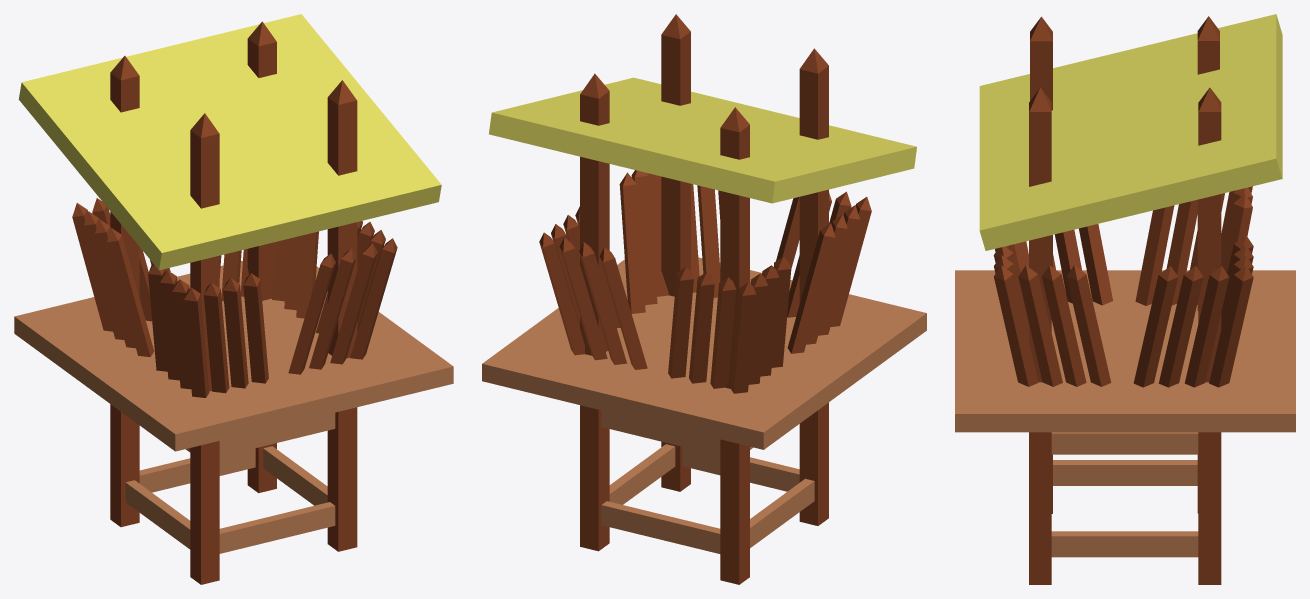
Rendered from tower 2.fbx.
The picture shows the model from 3 angles, left to right: view 1: azimuth 30°, elevation 25°; view 2: azimuth 150°, elevation 25°; view 3: azimuth 270°, elevation 25°; orthographic projection. The views are drawn at different scales.
Visible parts, largest first — view 1: Cube.013, Cube.012, Floor, Cube.005, Cube, Cube.008, Cube.011, Cube.002, Cube.010, Cube.001, Cube.007, Cube.004; view 2: Cube.012, Floor, Cube.013, Cube.011, Cube.008, Cube, Cube.005, Cube.010, Cube.009, Cube.002, Cube.007, Cube.004; view 3: Cube.013, Floor, Cube.012, Cube.011, Cube.005, Cube.004, Cube.007, Cube.003, Cube, Cube.008.
Part boxes in pixels (x1,y1,x2,y2): Cube.013: (18, 14, 441, 270); Cube.012: (72, 198, 397, 397); Floor: (14, 260, 453, 451); Cube.005: (327, 80, 357, 551); Cube: (190, 113, 219, 584); Cube.008: (110, 56, 139, 527); Cube.011: (247, 21, 276, 493); Cube.002: (219, 502, 335, 553); Cube.010: (139, 448, 255, 492); Cube.001: (219, 412, 335, 456); Cube.007: (125, 480, 190, 549); Cube.004: (263, 446, 327, 505); Cube.012: (539, 170, 871, 393); Floor: (482, 257, 926, 449); Cube.013: (489, 77, 916, 203); Cube.011: (580, 73, 609, 551); Cube.008: (720, 107, 749, 584); Cube: (799, 48, 828, 525); Cube.005: (661, 14, 690, 491); Cube.010: (601, 501, 720, 553); Cube.009: (601, 410, 720, 455); Cube.002: (682, 447, 799, 491); Cube.007: (750, 478, 814, 547); Cube.004: (609, 444, 675, 504); Cube.013: (979, 14, 1282, 250); Floor: (955, 270, 1295, 432); Cube.012: (993, 186, 1253, 387); Cube.011: (1198, 87, 1221, 584); Cube.005: (1029, 87, 1051, 584); Cube.004: (1051, 531, 1198, 557); Cube.007: (1053, 460, 1197, 485); Cube.003: (1051, 432, 1198, 454); Cube: (1030, 16, 1052, 513); Cube.008: (1197, 16, 1219, 513).
Bounding box in the file's own units: 77.34 × 123 × 77.02.
